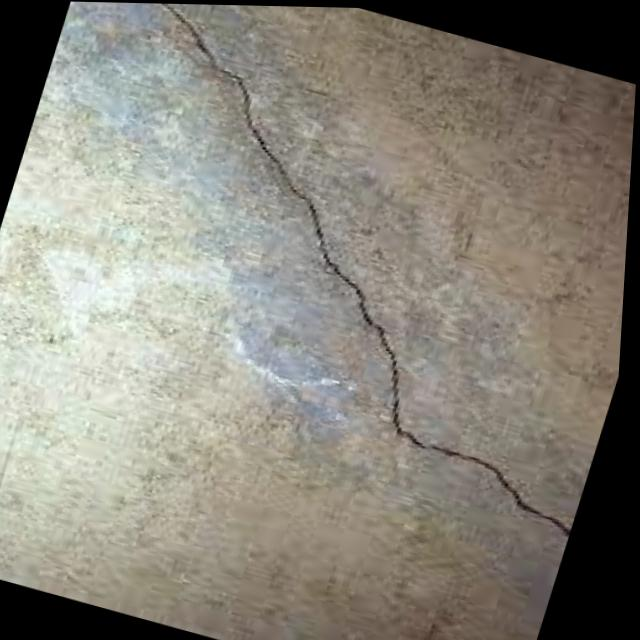Crack: (49, 1, 370, 205), (256, 204, 489, 445)
